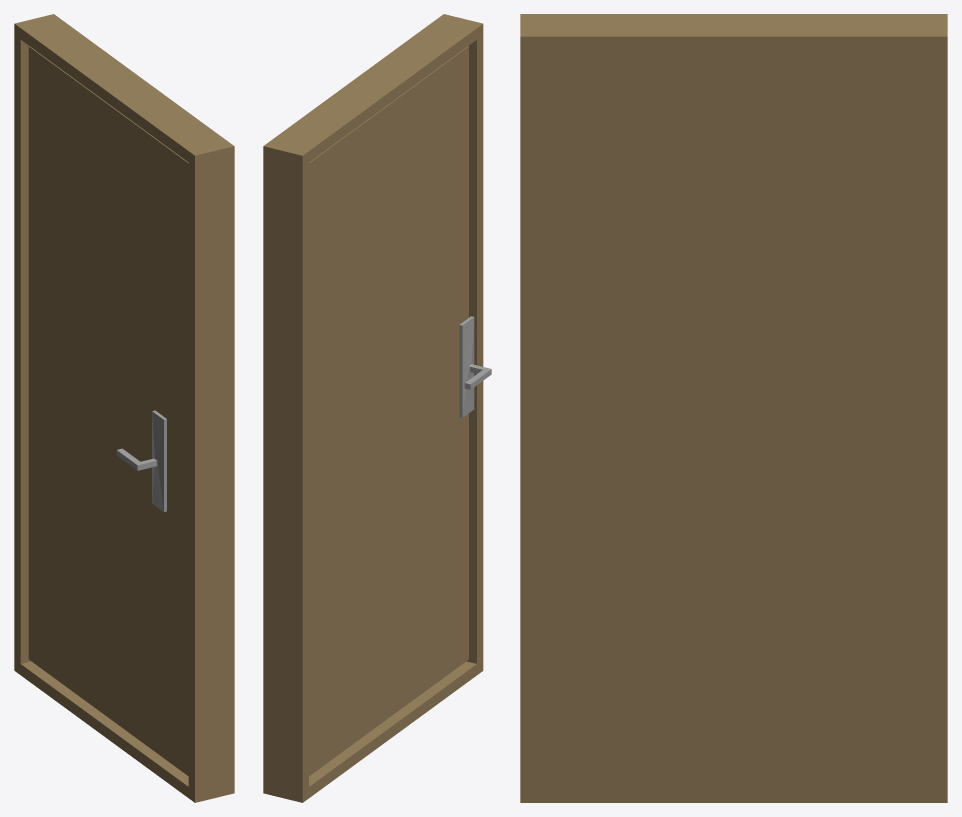
The model's file is M_Puerta Principal.fbx.
3 renders of one model, left to right at view 1: azimuth 30°, elevation 25°; view 2: azimuth 150°, elevation 25°; view 3: azimuth 270°, elevation 25°, orthographic. The views are drawn at different scales.
Visible parts, largest first — view 1: pCube33, pCube34; view 2: pCube33, pCube34; view 3: pCube33.
Part boxes in pixels (x1=…): pCube33: x1=14, y1=14, x2=234, y2=802; pCube34: x1=116, y1=410, x2=166, y2=511; pCube33: x1=263, y1=14, x2=483, y2=802; pCube34: x1=459, y1=316, x2=491, y2=417; pCube33: x1=520, y1=14, x2=947, y2=802.
Bounding box in the file's own units: 5.32 × 45.48 × 23.01.
